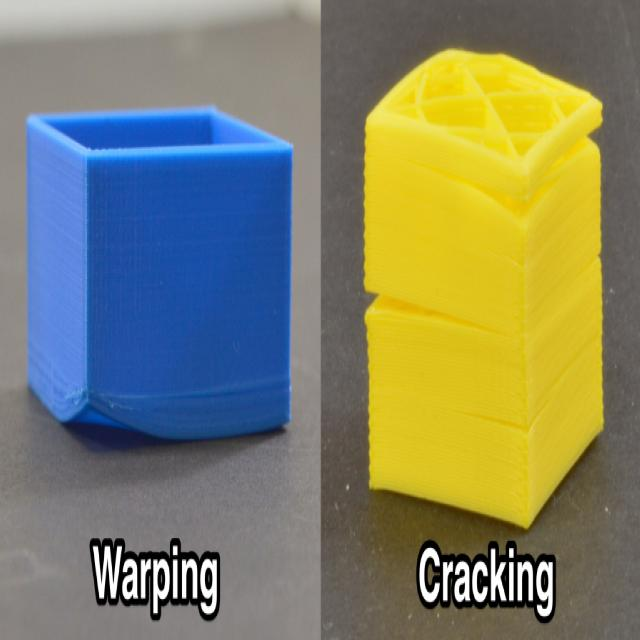Warping: (57, 381, 170, 446), (574, 418, 606, 466), (260, 412, 294, 438)
